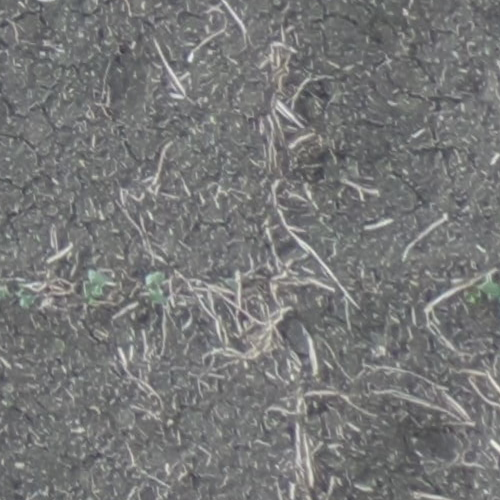plant: (83, 269, 116, 306), (479, 275, 499, 329), (144, 268, 169, 305), (0, 284, 38, 307)
